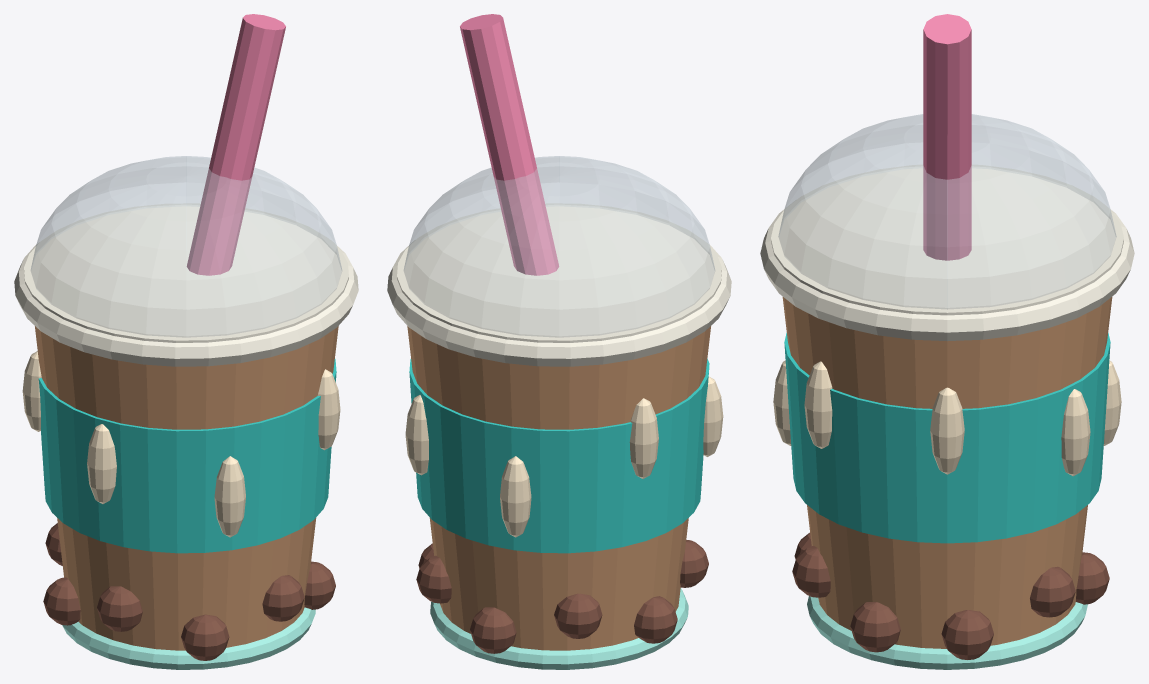
The model's file is SmallBobaCup.glb.
The picture shows the model from 3 angles, left to right: view 1: azimuth 30°, elevation 25°; view 2: azimuth 150°, elevation 25°; view 3: azimuth 270°, elevation 25°; orthographic projection. The views are drawn at different scales.
Visible parts, largest first — view 1: domed lid, cup body, lid ring, turquoise sleeve, wide strawberry straw, upper lip, bottom turquoise rim, cream drip 6, cream drip 5, pearl 7, pearl 6, pearl 8 (+4 smaller); view 2: domed lid, cup body, lid ring, turquoise sleeve, wide strawberry straw, upper lip, bottom turquoise rim, cream drip 3, cream drip 4, pearl 4, pearl 3, pearl 5 (+4 smaller); view 3: domed lid, cup body, lid ring, turquoise sleeve, wide strawberry straw, upper lip, bottom turquoise rim, cream drip 1, pearl 1, cream drip 2, pearl 9, cream drip 7 (+5 smaller).
Part boxes in pixels (bbox=[...]): domed lid: bbox=[30, 156, 342, 337]; cup body: bbox=[35, 326, 338, 650]; lid ring: bbox=[24, 203, 348, 342]; turquoise sleeve: bbox=[38, 359, 336, 553]; wide strawberry straw: bbox=[186, 14, 285, 275]; upper lip: bbox=[14, 240, 358, 366]; bottom turquoise rim: bbox=[62, 607, 315, 669]; cream drip 6: bbox=[214, 456, 245, 537]; cream drip 5: bbox=[87, 424, 116, 503]; pearl 7: bbox=[181, 614, 229, 660]; pearl 6: bbox=[97, 586, 142, 631]; pearl 8: bbox=[262, 575, 304, 621]; domed lid: bbox=[403, 156, 715, 337]; cup body: bbox=[407, 326, 710, 650]; lid ring: bbox=[397, 203, 721, 342]; turquoise sleeve: bbox=[409, 358, 709, 553]; wide strawberry straw: bbox=[460, 14, 559, 275]; upper lip: bbox=[387, 240, 731, 366]; bottom turquoise rim: bbox=[430, 588, 688, 669]; cream drip 3: bbox=[500, 456, 531, 537]; cream drip 4: bbox=[629, 398, 658, 478]; pearl 4: bbox=[554, 593, 602, 638]; pearl 3: bbox=[470, 607, 516, 653]; pearl 5: bbox=[634, 596, 677, 643]; domed lid: bbox=[778, 114, 1116, 309]; cup body: bbox=[782, 297, 1112, 648]; lid ring: bbox=[771, 164, 1123, 315]; turquoise sleeve: bbox=[784, 333, 1110, 543]; wide strawberry straw: bbox=[923, 14, 971, 260]; upper lip: bbox=[760, 200, 1134, 341]; bottom turquoise rim: bbox=[807, 596, 1087, 669]; cream drip 1: bbox=[930, 387, 964, 474]; pearl 1: bbox=[941, 610, 993, 659]; cream drip 2: bbox=[1061, 389, 1090, 476]; pearl 9: bbox=[850, 602, 900, 652]; cream drip 7: bbox=[804, 361, 832, 448].
Bounding box in the file's own units: 0.498 × 0.9288 × 0.498.
